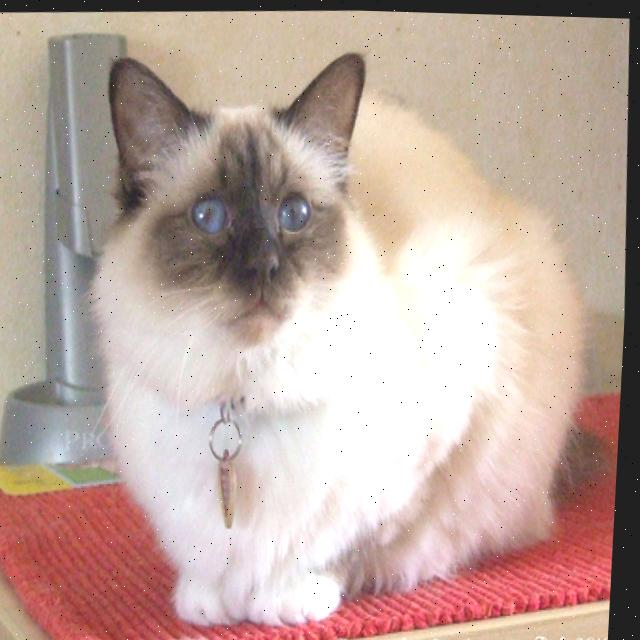Birman: (71, 33, 609, 635)
